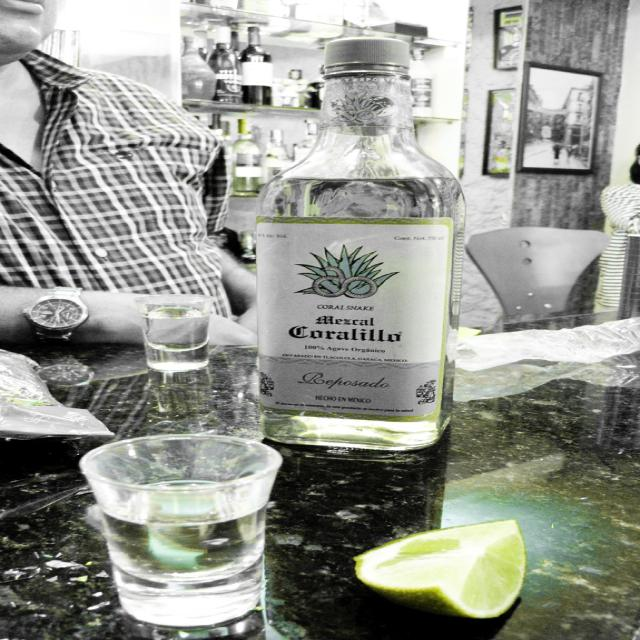Lemon: (341, 522, 537, 617)
